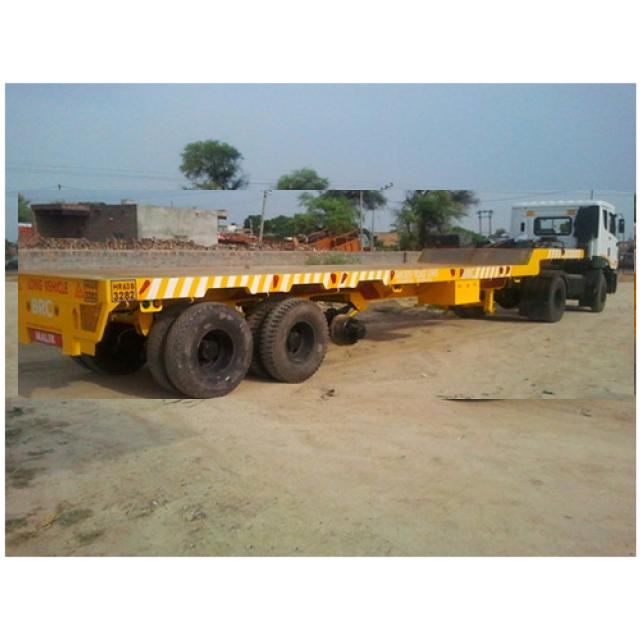truck: (18, 190, 634, 399)
